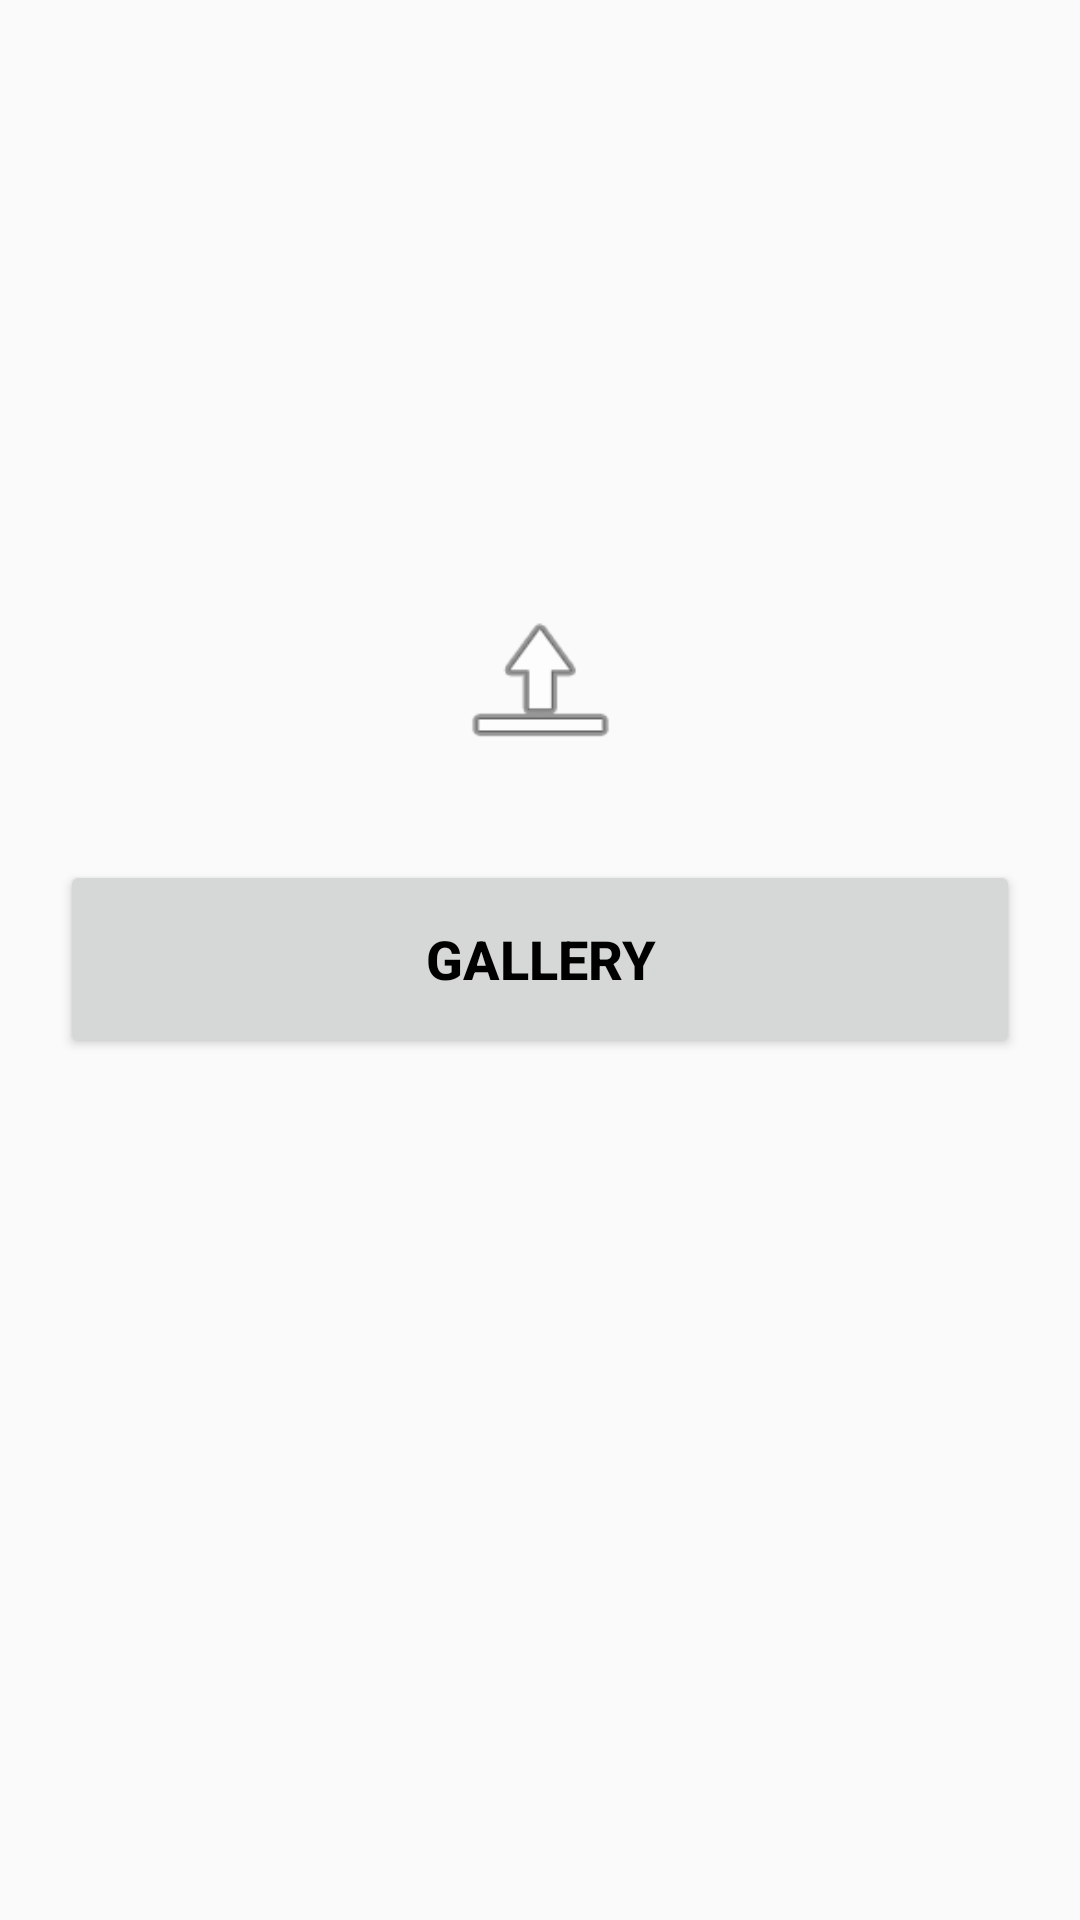

Point at icon controls on the screen. Image size 1080w x 1920h, points as point (x, y).
upload: point (540, 680)
